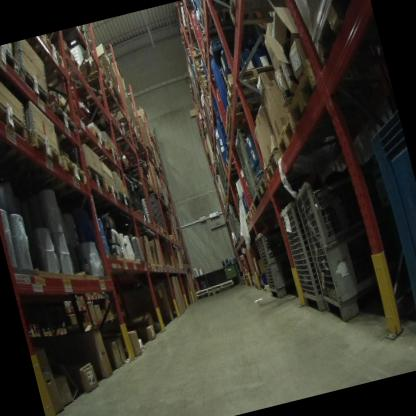pallet: (266, 60, 332, 143), (16, 146, 91, 205), (304, 0, 370, 65), (0, 123, 67, 186), (218, 56, 283, 111), (34, 37, 86, 94), (0, 89, 36, 163), (225, 0, 299, 35), (39, 96, 83, 144), (221, 102, 271, 144), (265, 112, 306, 161), (9, 63, 52, 109), (82, 86, 129, 125), (256, 146, 290, 196), (24, 35, 65, 76), (62, 66, 110, 100), (71, 116, 110, 157), (78, 141, 122, 173), (192, 275, 241, 300), (81, 155, 109, 197), (58, 26, 93, 55), (114, 131, 148, 157), (108, 109, 139, 136), (176, 21, 203, 49), (0, 43, 21, 79), (110, 181, 133, 211), (102, 174, 121, 205), (120, 208, 149, 228), (251, 173, 272, 200), (58, 96, 75, 121), (197, 72, 214, 89), (148, 221, 164, 236), (191, 57, 207, 71), (242, 210, 254, 228), (205, 288, 223, 299), (161, 227, 170, 238)
stillage: (289, 152, 415, 330), (276, 187, 333, 314), (253, 220, 305, 309), (230, 129, 264, 214), (215, 143, 234, 190), (187, 64, 206, 110), (198, 97, 217, 142), (214, 154, 232, 196), (228, 202, 246, 243), (226, 208, 243, 249), (200, 111, 215, 152)
